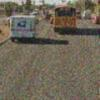buses: (48, 4, 96, 36), (6, 13, 40, 42)
